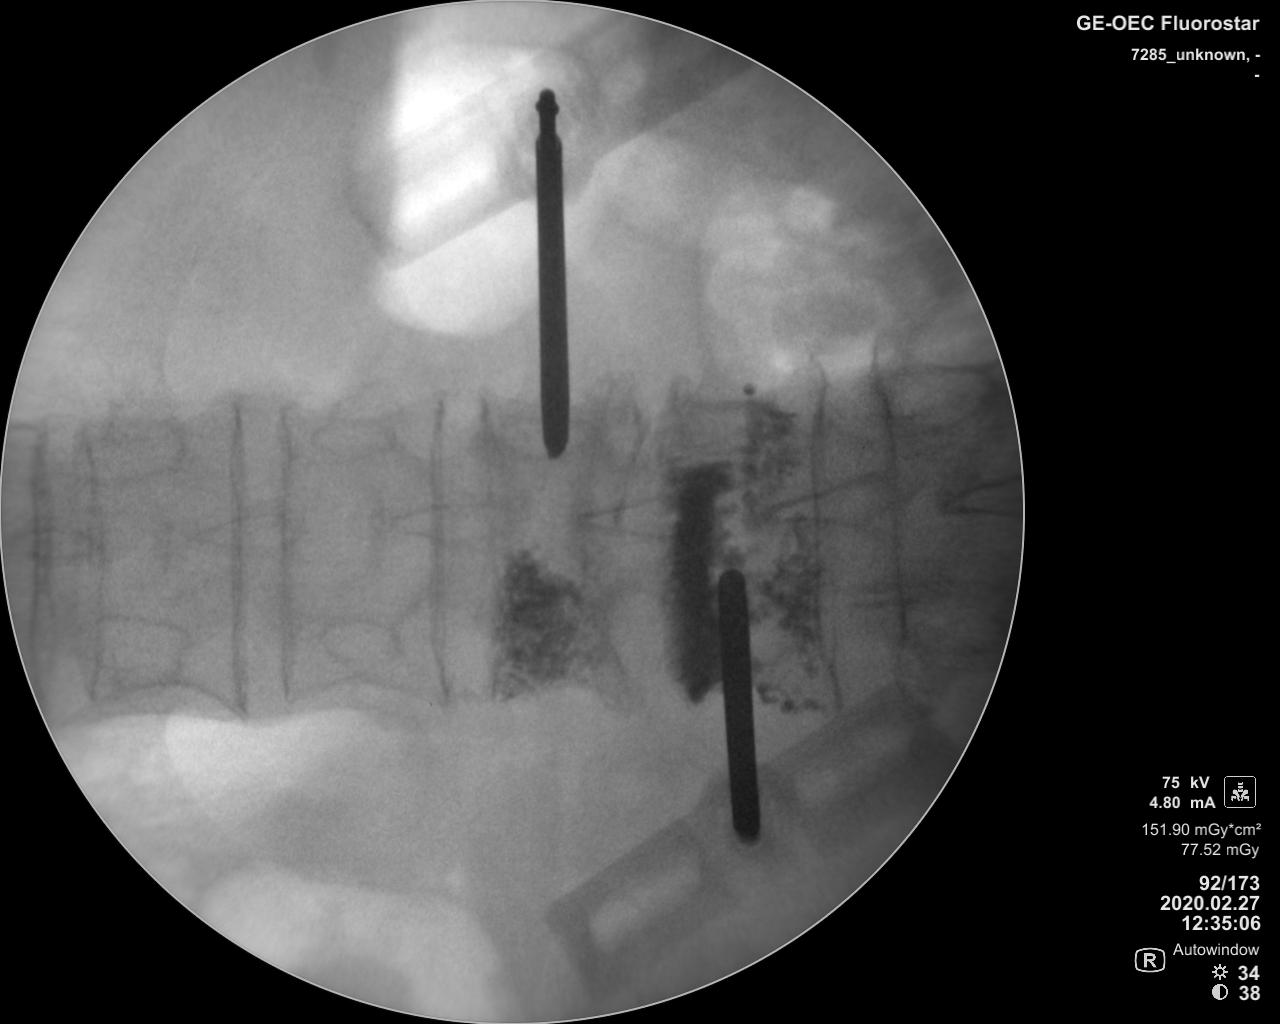eyes: (82, 417, 190, 486), (879, 366, 993, 428), (88, 610, 189, 678), (495, 404, 592, 457), (317, 615, 404, 668), (306, 413, 399, 455)
line: (802, 344, 846, 717), (868, 345, 915, 652), (426, 389, 455, 707), (75, 419, 106, 708), (274, 391, 298, 708), (30, 414, 57, 688), (229, 395, 251, 722)
nose: (757, 470, 908, 530), (566, 498, 727, 539), (385, 501, 519, 543), (183, 512, 307, 551), (939, 470, 1024, 523), (2, 527, 96, 564)
